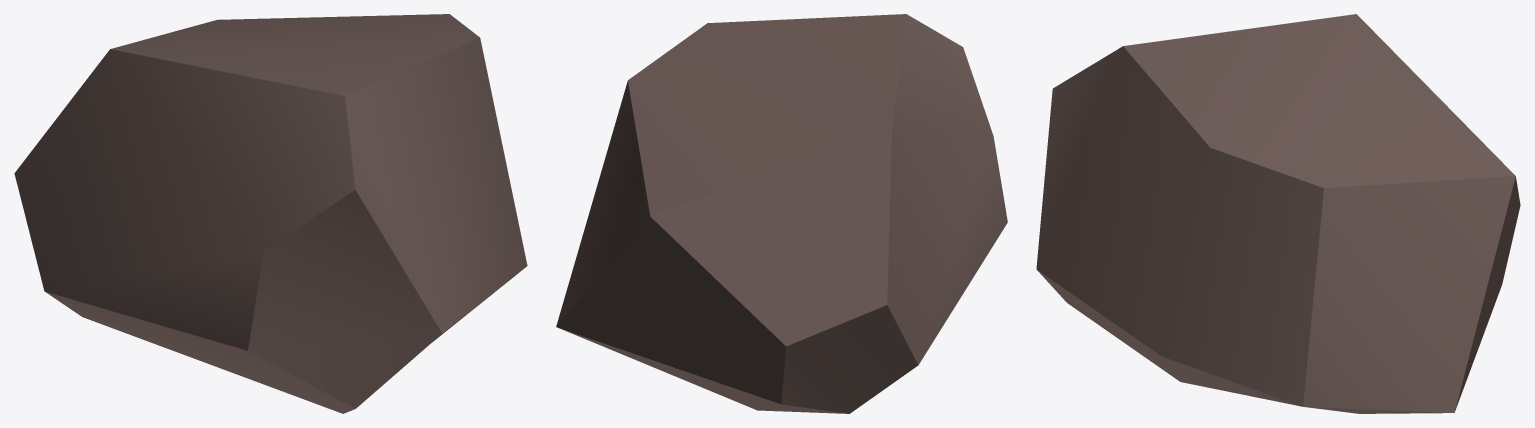
File: p_mesh_hvs_gold_destruct_rock03.fbx
3 views of the same model, side by side, from view 1: azimuth 30°, elevation 25°; view 2: azimuth 150°, elevation 25°; view 3: azimuth 270°, elevation 25° (orthographic). The views are drawn at different scales.
Parts seen in each view (by area): view 1: _gold_rocks02.001; view 2: _gold_rocks02.001; view 3: _gold_rocks02.001.
Boxes of the visible parts, <box> form: _gold_rocks02.001: <box>14,14,527,413</box>; _gold_rocks02.001: <box>556,14,1007,413</box>; _gold_rocks02.001: <box>1036,14,1520,413</box>.
Size of the model in its own units: 2.29 by 1.97 by 2.49.
